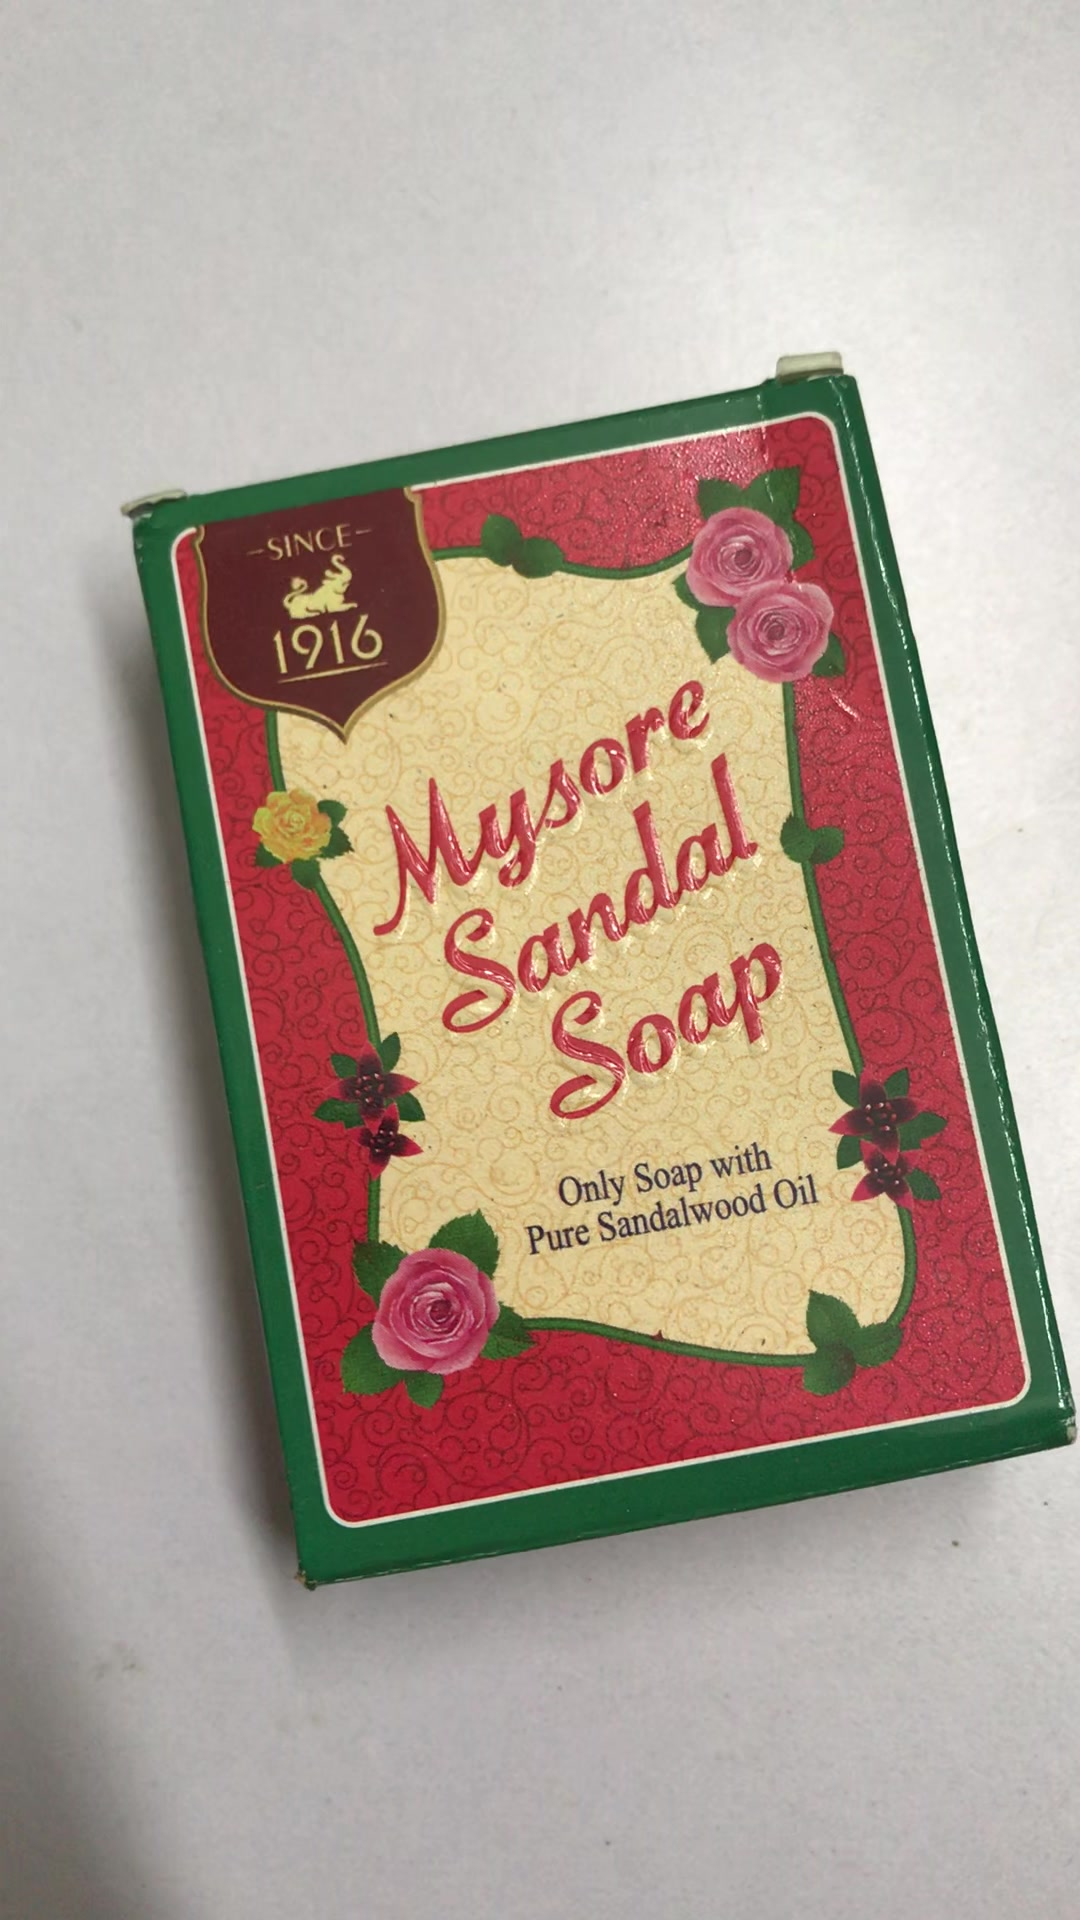mysore sandal soap: (123, 357, 1080, 1594)
